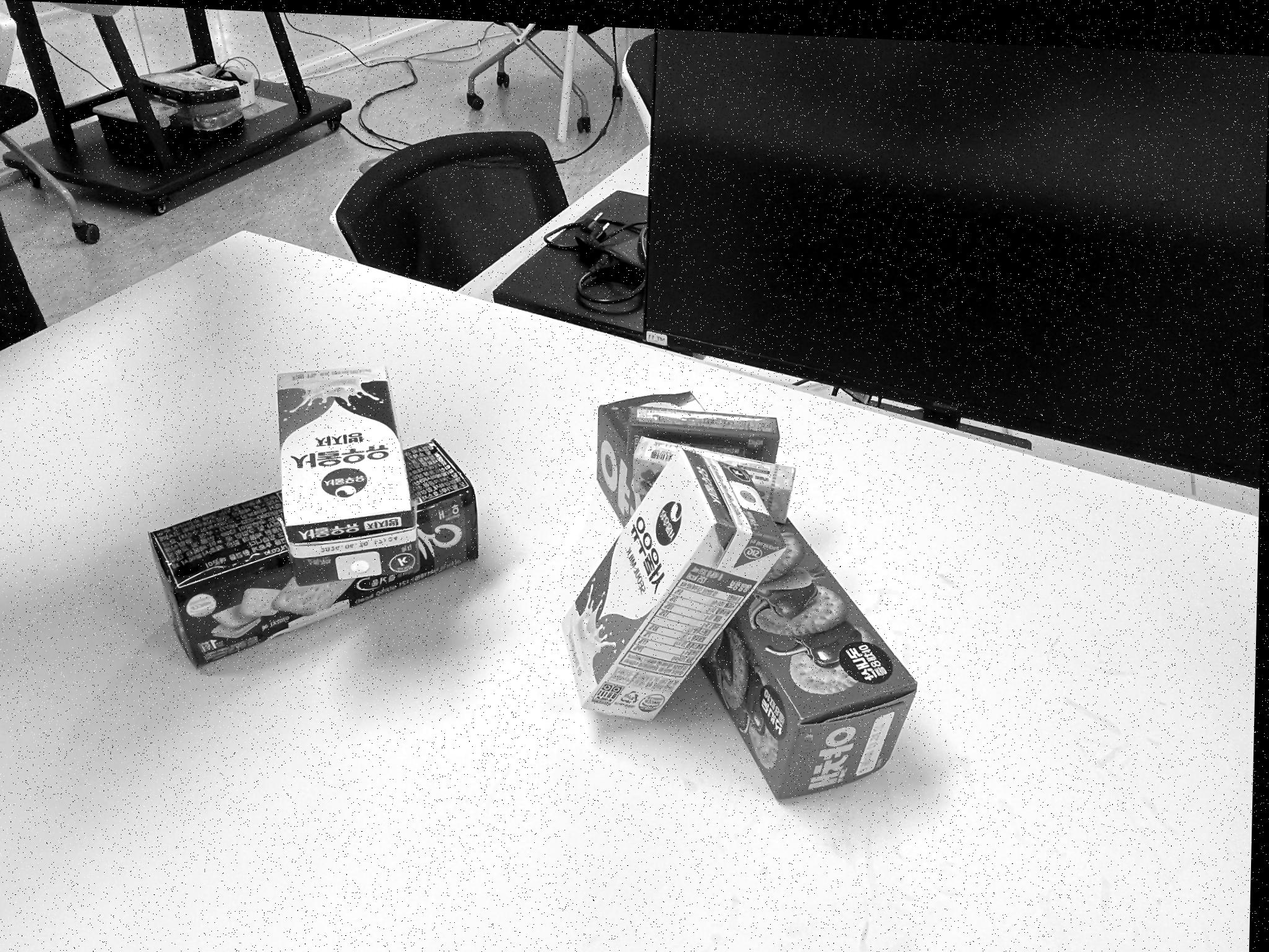cracker_ace: (153, 440, 480, 674)
cracker_vege: (695, 518, 918, 800), (594, 391, 704, 522)
gum_green: (626, 406, 780, 463)
gum_yellow: (634, 437, 795, 523)
milk_blue: (278, 367, 419, 585)
milk_green: (563, 451, 784, 720)
